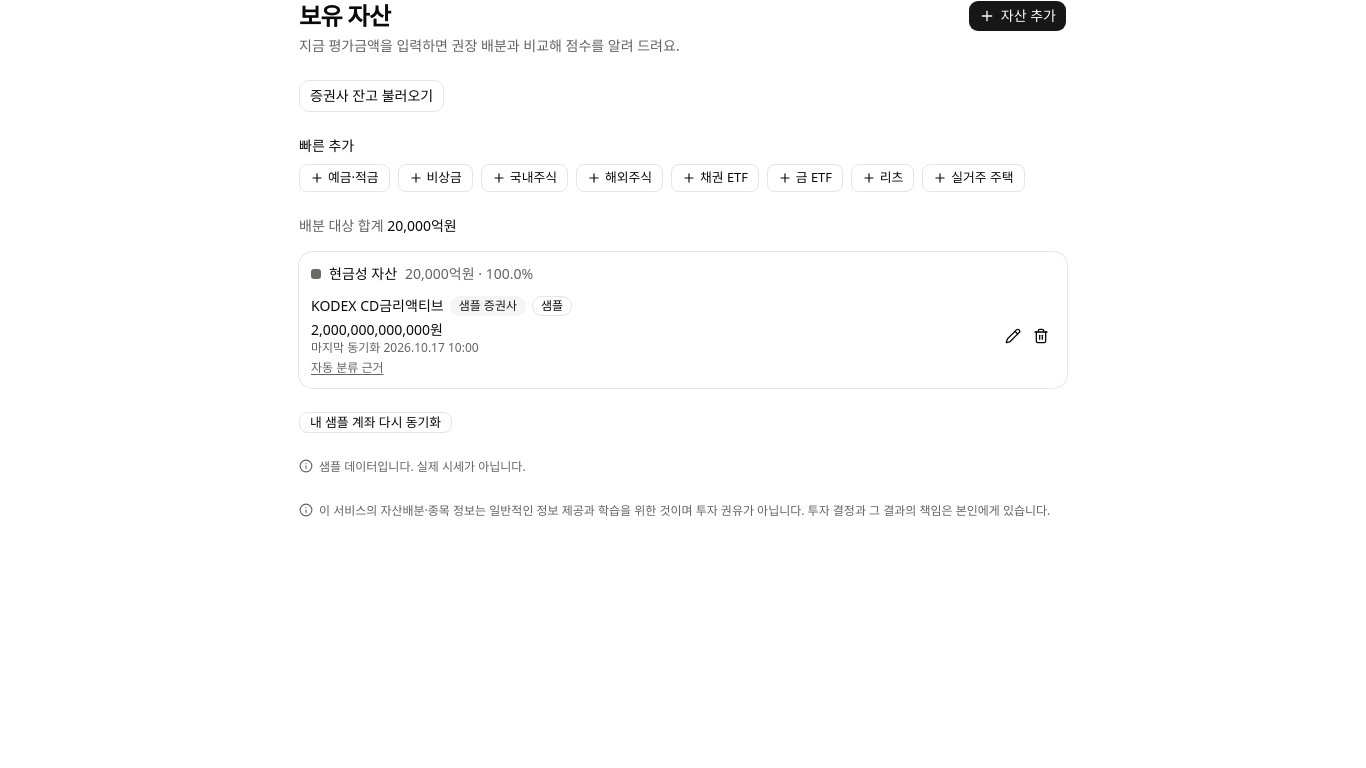
Test case: 증권사 잔고 동기화 › 금액과 이름은 잠그고 분류·포함 여부·메모만 전송한다
What coordinates should you click on to do the following:
click the button named "KODEX CD금리액티브 수정"
I would click on:
 (1013, 336)
Its box is [999, 322, 1027, 350].
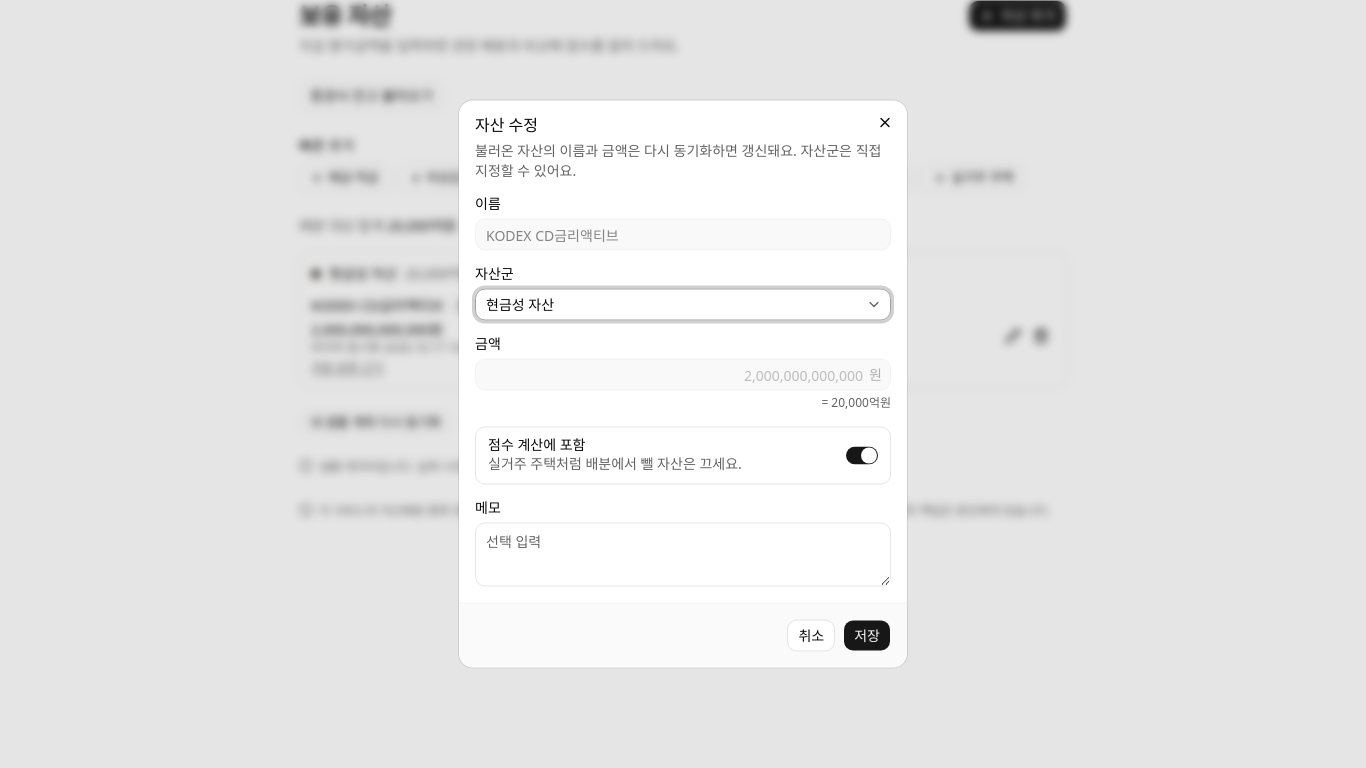
Check: the field labelled "이름" is disabled, box [475, 218, 891, 250]
Check: the field labelled "금액" is disabled, box [476, 358, 869, 390]
What coordinates should you click on to do the following:
click the dropdown named "자산군"
I would click on:
 (520, 304)
Its box is [475, 288, 891, 320].
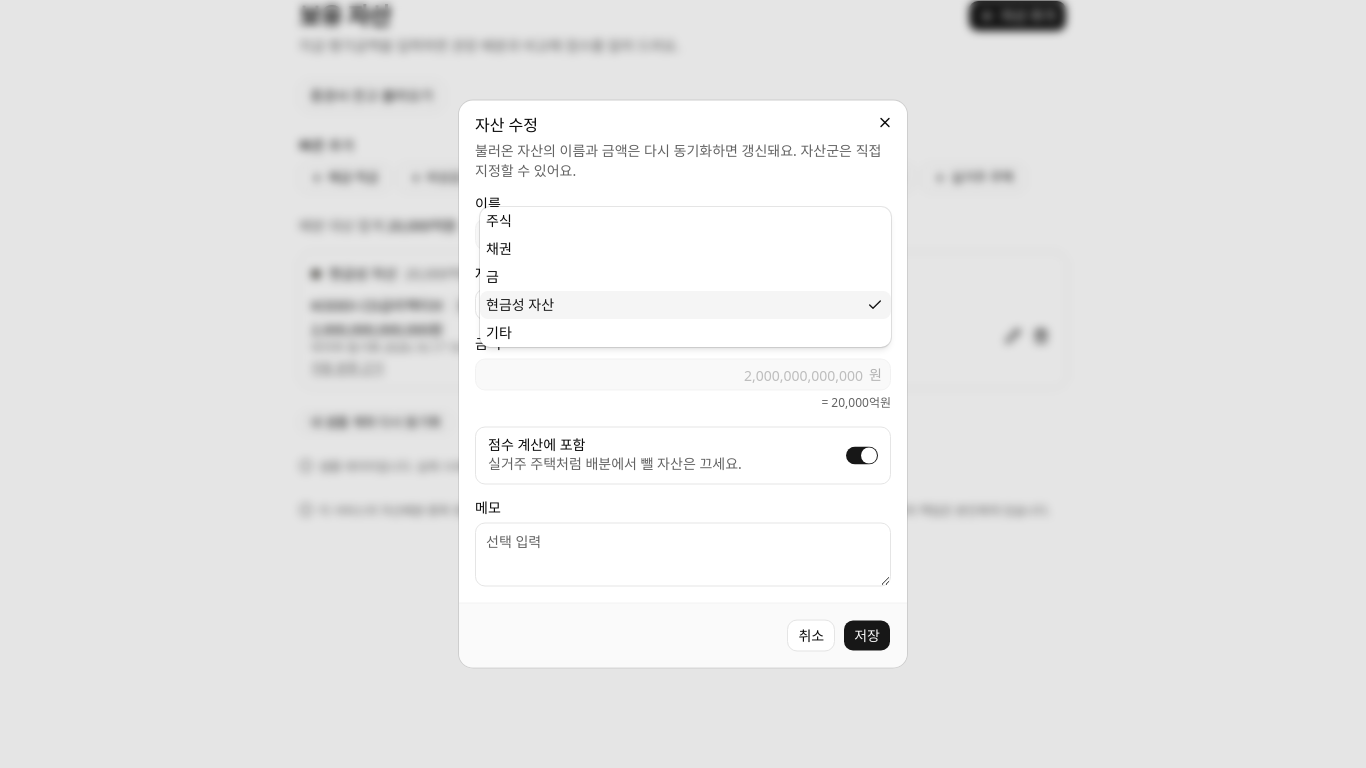
What coordinates should you click on to do the following:
click the option "채권"
I would click on:
 (499, 248)
Its box is [486, 238, 512, 258].
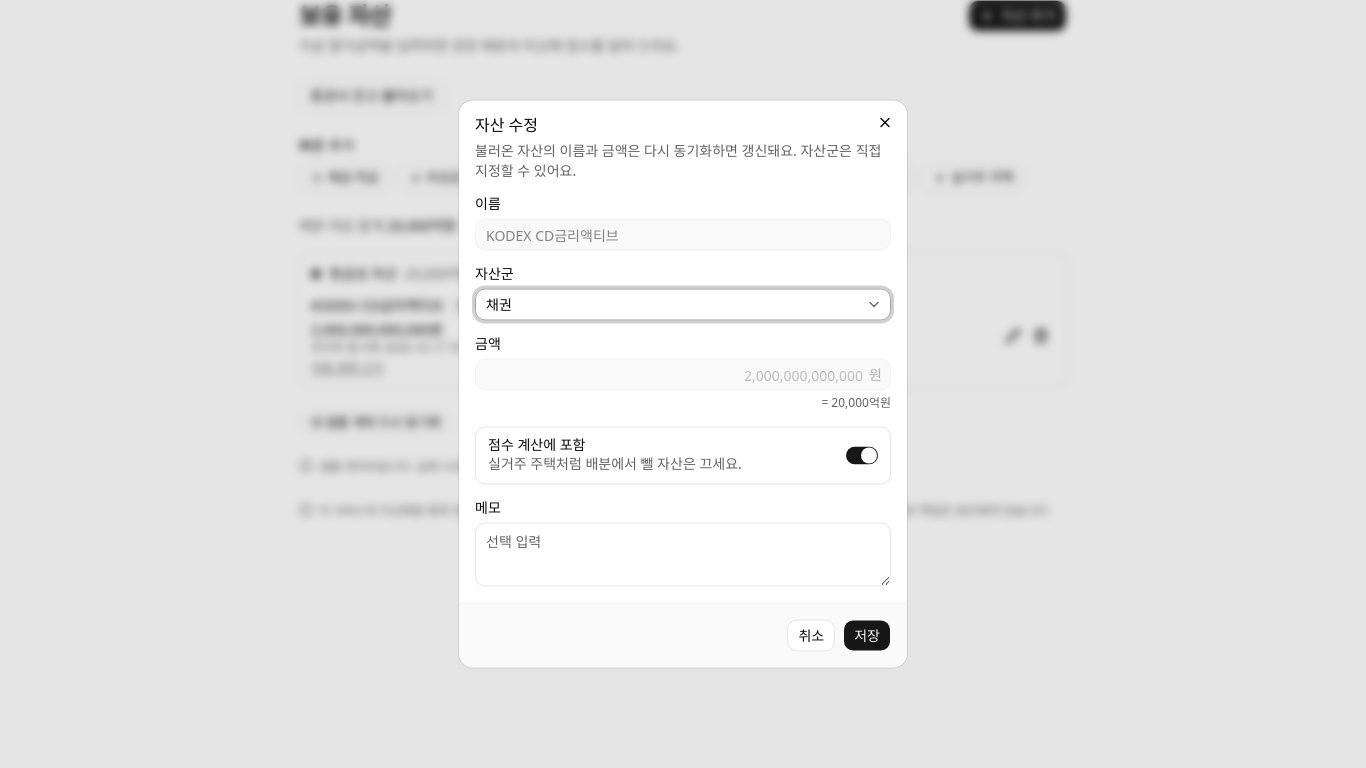
What coordinates should you click on to do the following:
click the button "저장"
I would click on:
 (867, 636)
Its box is [843, 620, 891, 652].
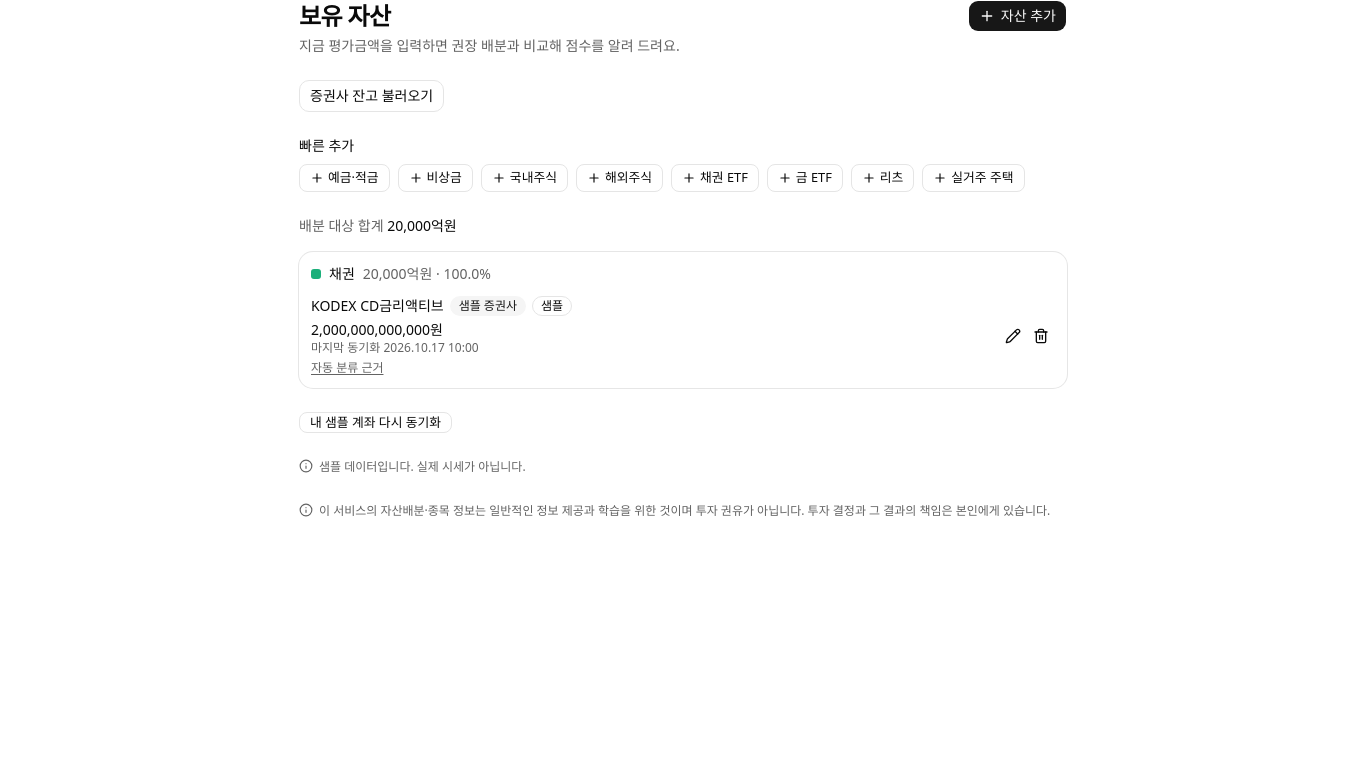
Check: the dialog is gone
